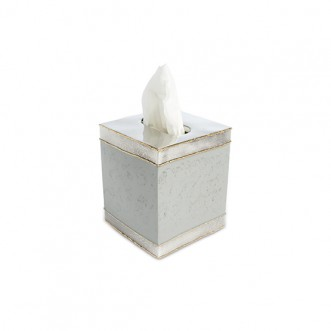Tissue: (138, 63, 188, 136)
